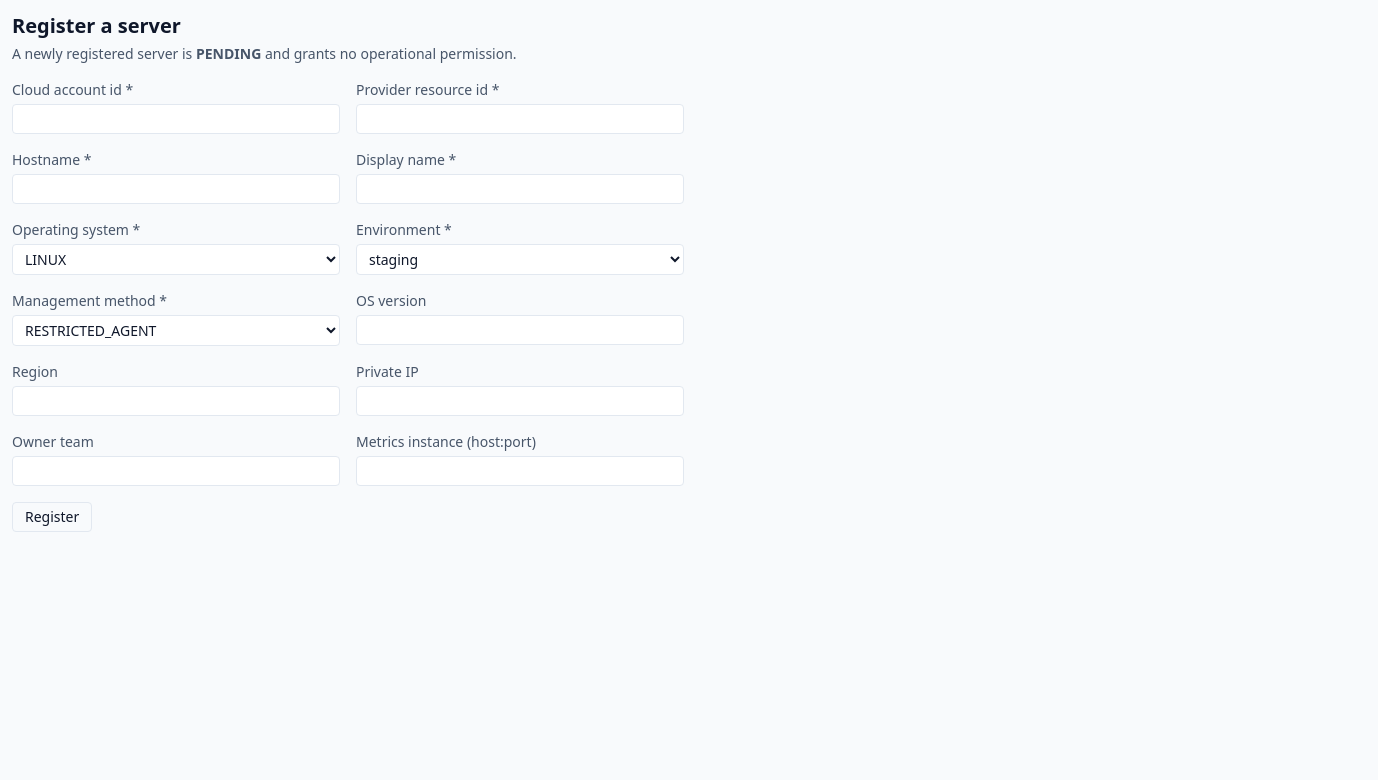
Test: ServerForm › reports read-only mode as itself
The width and height of the screenshot is (1378, 780).
Type "a1" into the field labelled "Cloud account id *" at point(176, 119), box 12,104 -> 340,134
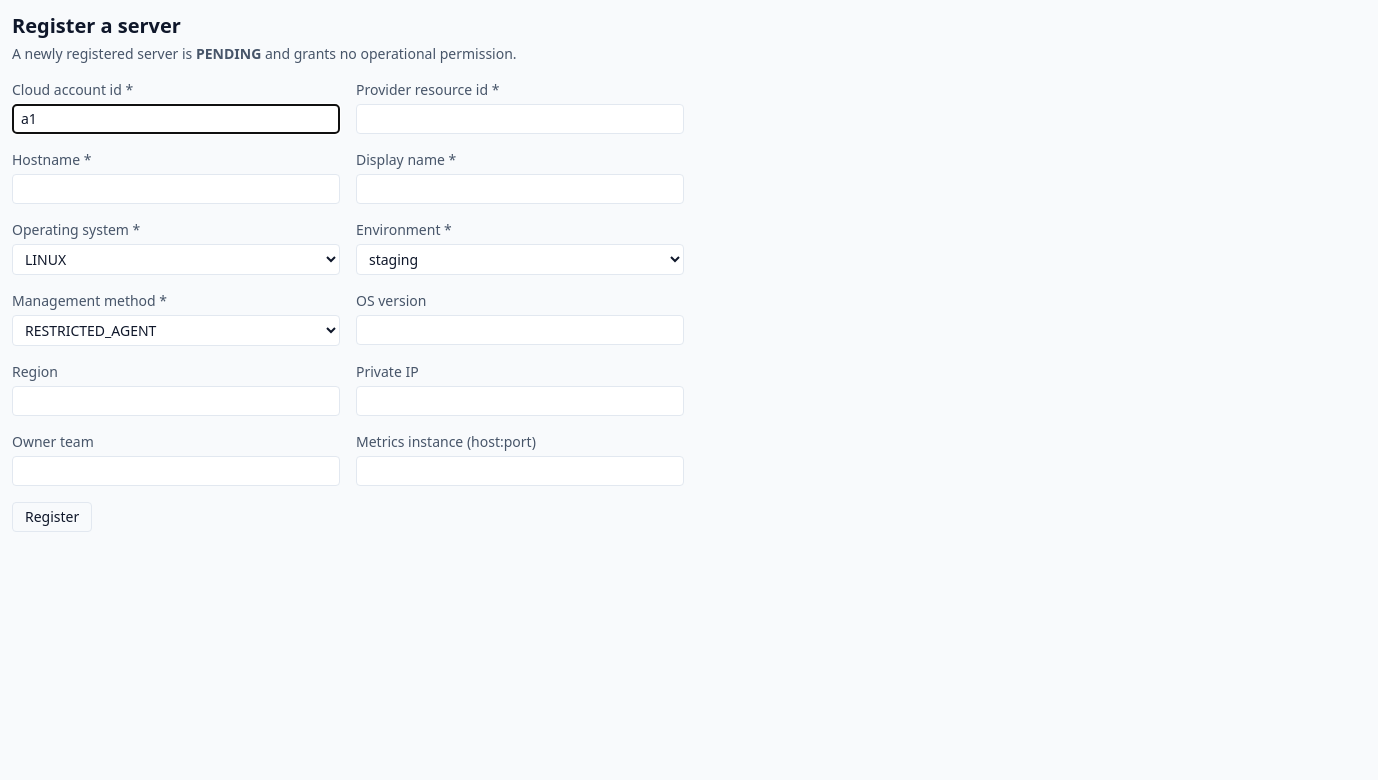
Type "host-1" into the field labelled "Provider resource id *" at point(520, 119), box 356,104 -> 684,134
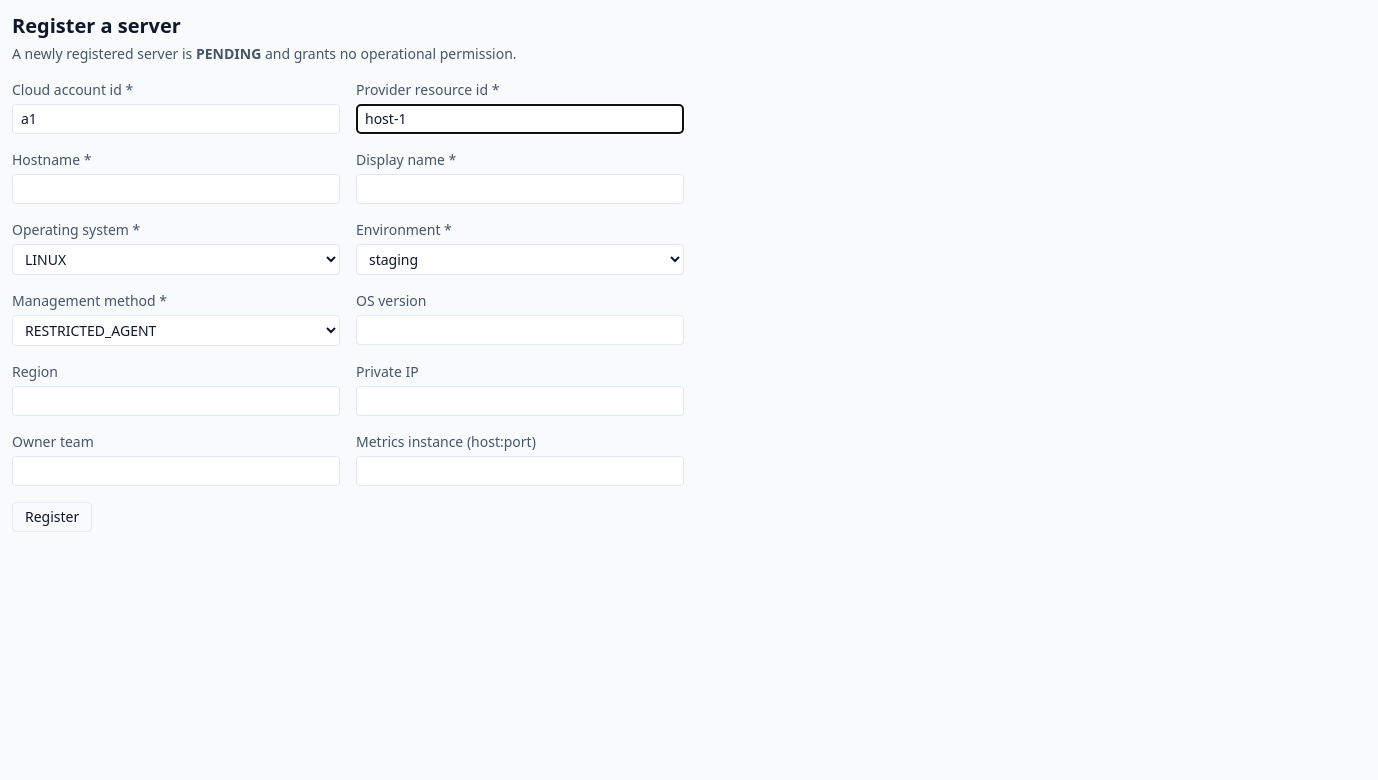
Type "web-01.internal.example" into the field labelled "Hostname *" at point(176, 189), box 12,174 -> 340,204
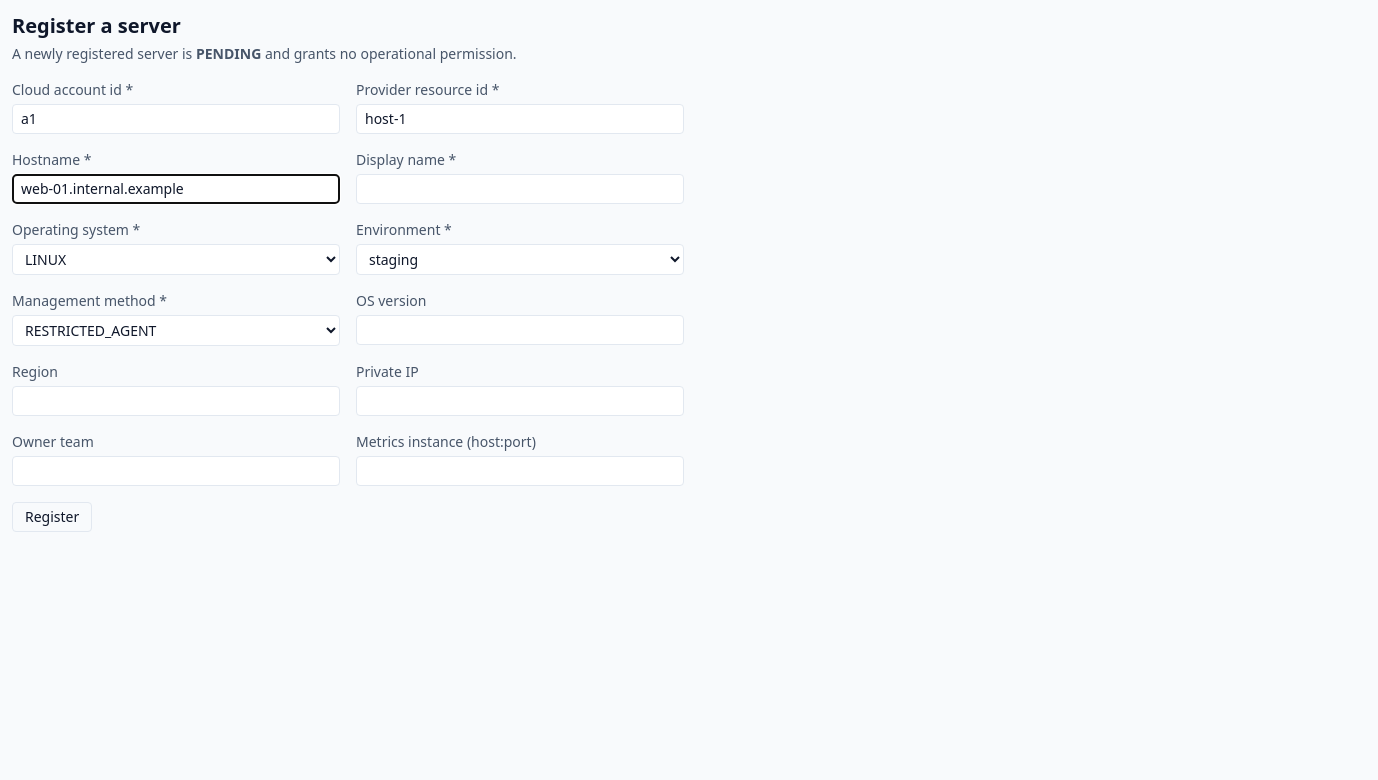
Type "Web 01" into the field labelled "Display name *" at point(520, 189), box 356,174 -> 684,204
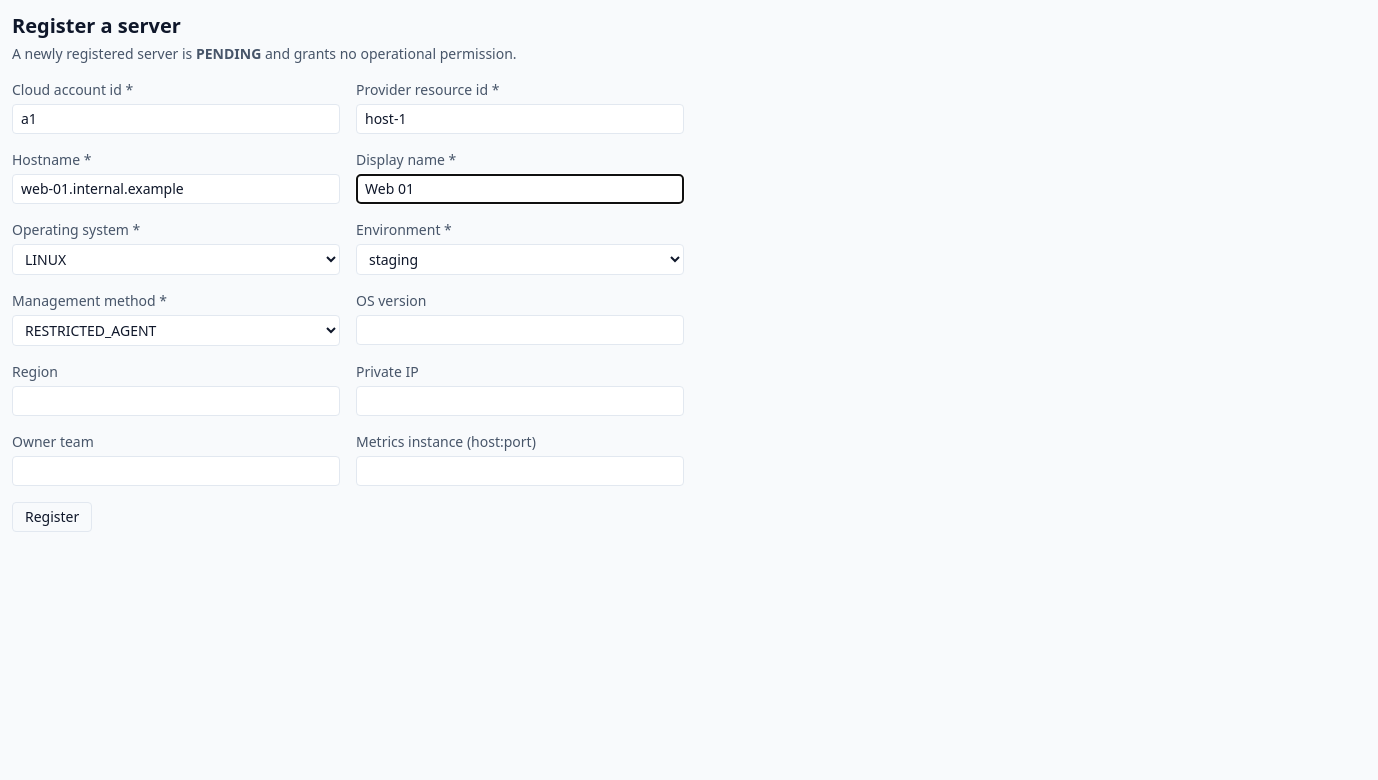
Click the button "Register" at point(52, 517), box 12,502 -> 92,532
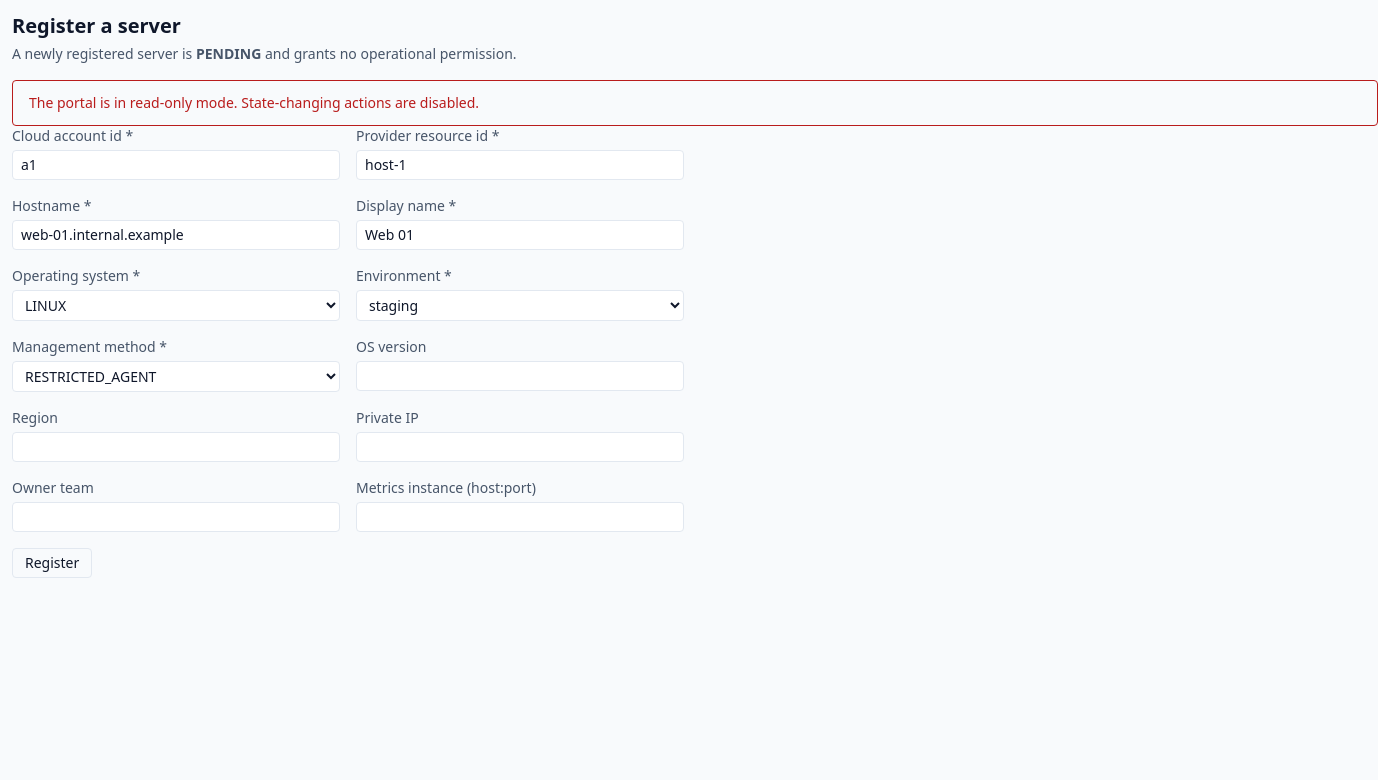
expect the message shows "read-only mode": met, box 29,93 -> 479,112
